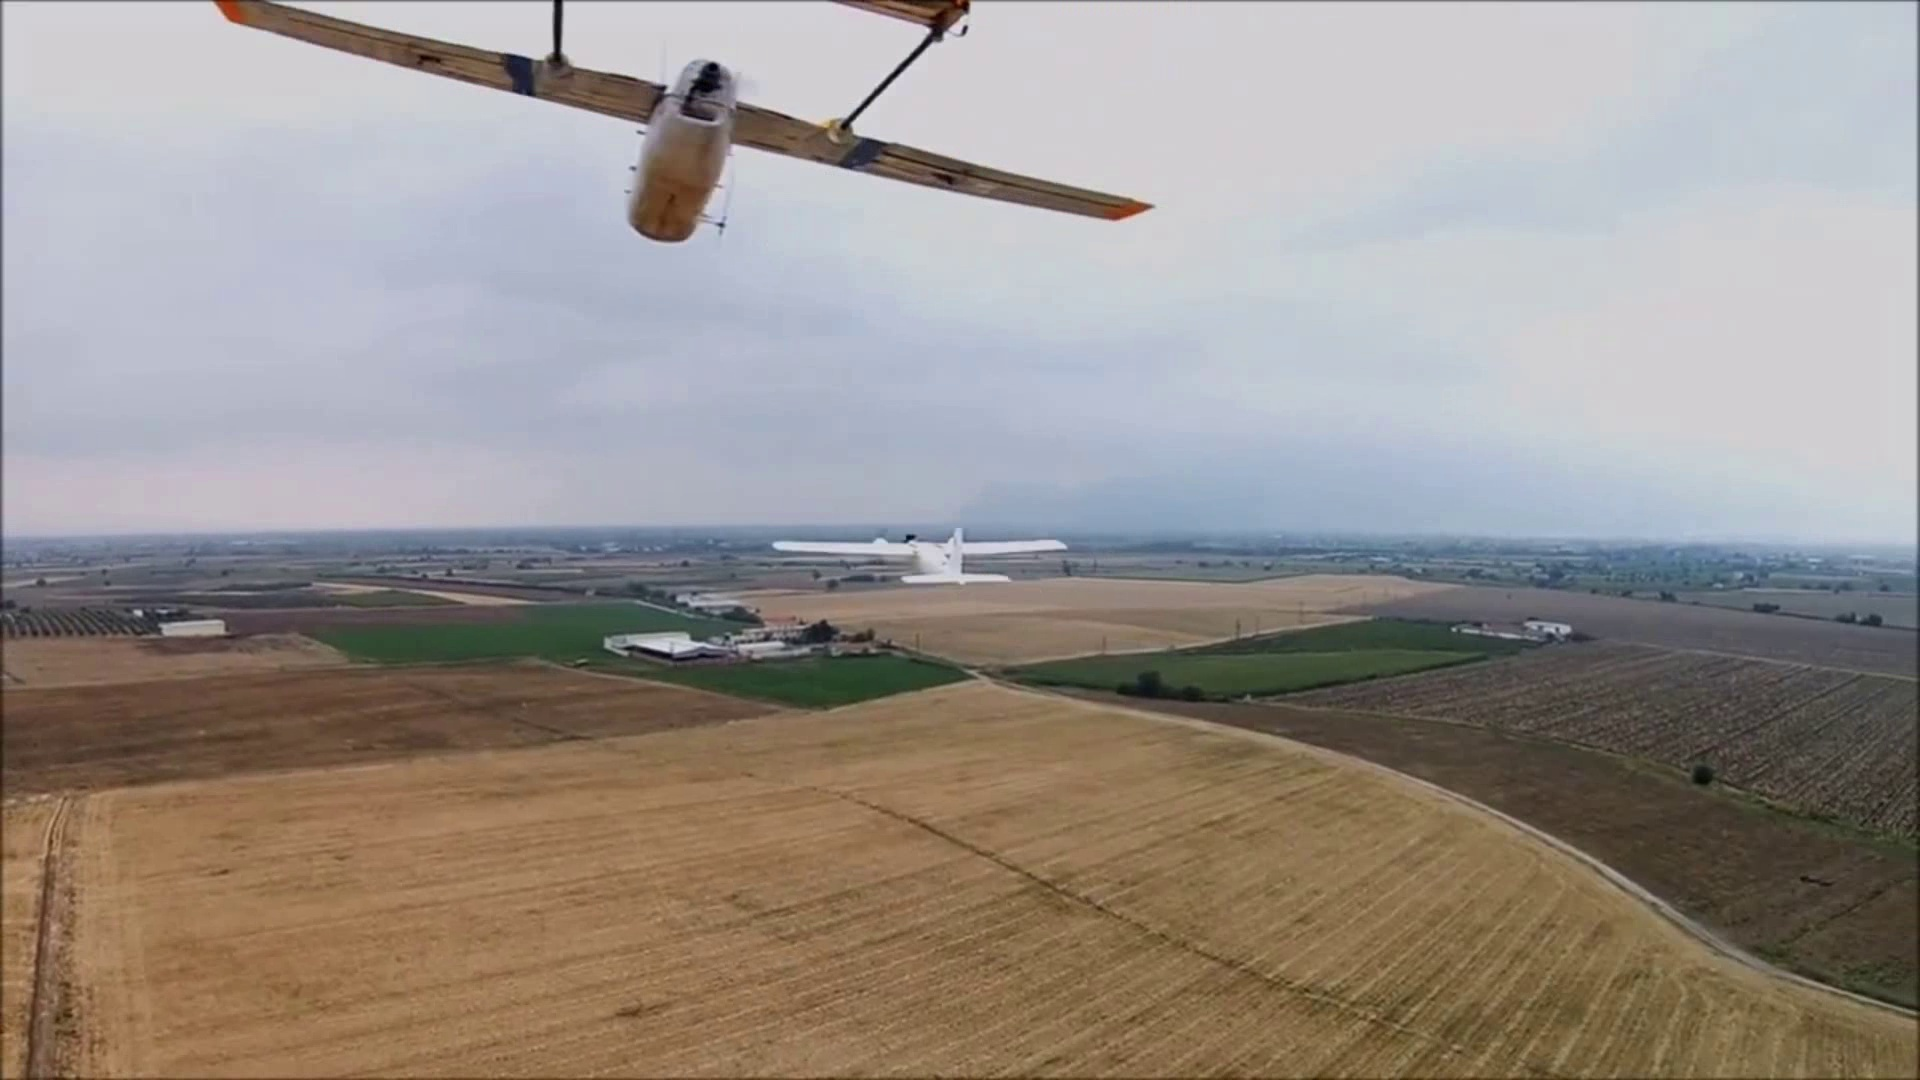airplane: (208, 3, 1155, 243)
